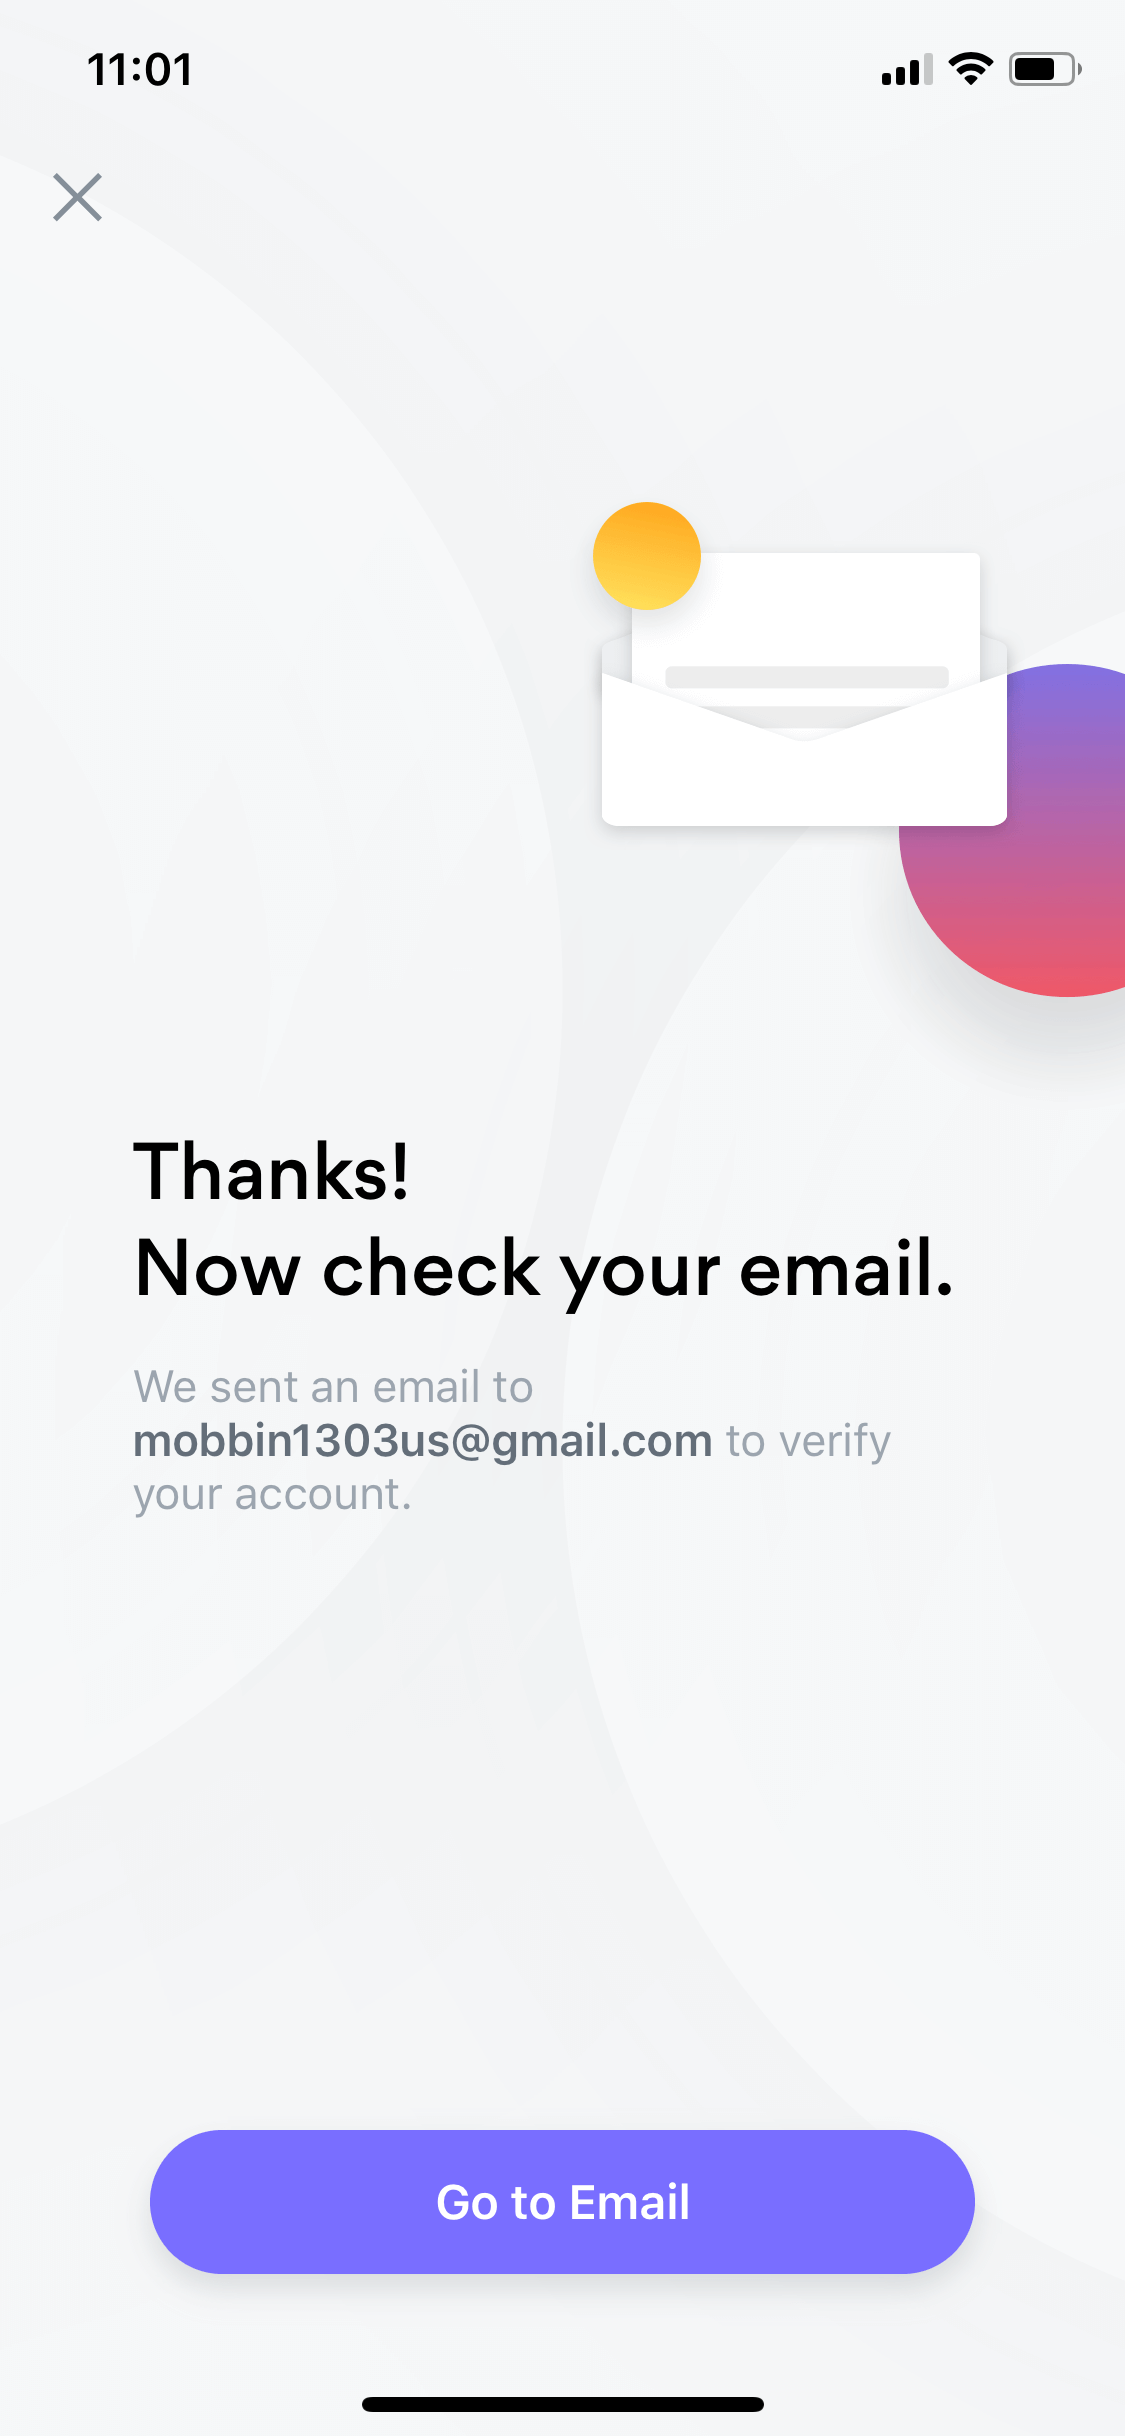Buttons: (145, 2121, 984, 2292), (22, 130, 134, 258)
